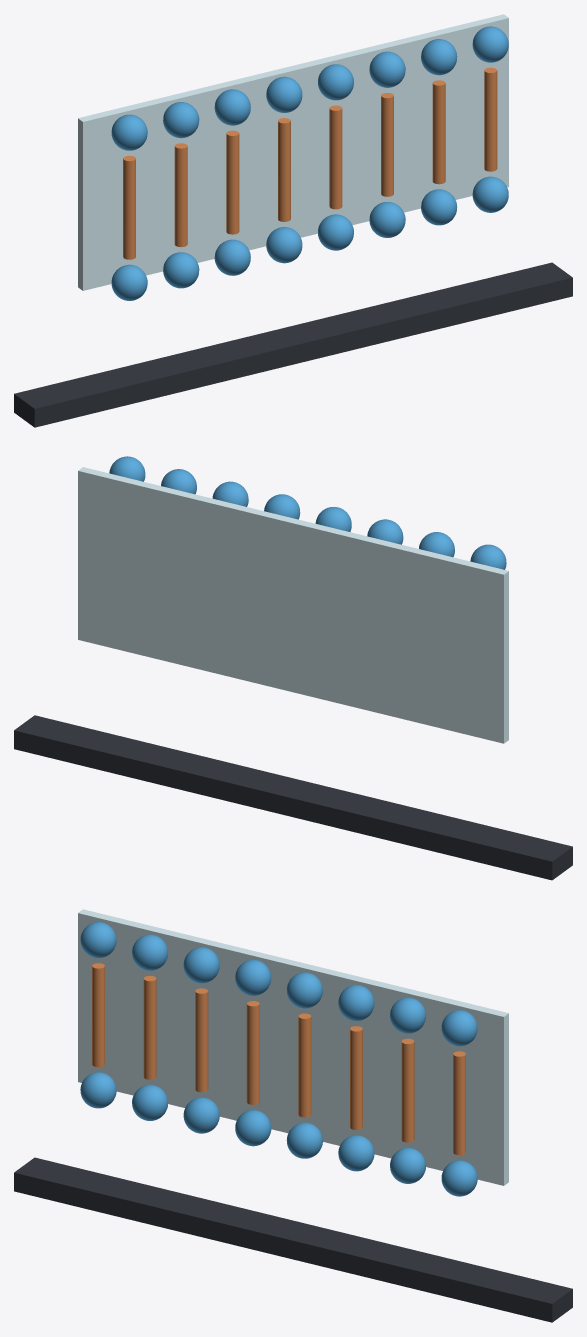
Rendered from chem-biolink-lipid-membrane.glb.
3 views of the same model, one above another, from view 1: azimuth 30°, elevation 25°; view 2: azimuth 150°, elevation 25°; view 3: azimuth 330°, elevation 25° (orthographic).
Parts seen in each view (by area): view 1: selective-barrier-bilayer-plane, biochemistry-bench, tail-core-water-avoiding-2, tail-core-water-avoiding-4, tail-core-water-avoiding-6, tail-core-water-avoiding-7, tail-core-water-avoiding-1, tail-core-water-avoiding-0, tail-core-water-avoiding-3, tail-core-water-avoiding-5, head-layer-water-loving-2, head-layer-water-loving-3 (+14 smaller); view 2: selective-barrier-bilayer-plane, biochemistry-bench, head-layer-water-loving-5, head-layer-water-loving-0, head-layer-water-loving-2, head-layer-water-loving-3, head-layer-water-loving-7, head-layer-water-loving-4, head-layer-water-loving-6, head-layer-water-loving-1; view 3: selective-barrier-bilayer-plane, biochemistry-bench, tail-core-water-avoiding-2, tail-core-water-avoiding-4, tail-core-water-avoiding-6, tail-core-water-avoiding-1, tail-core-water-avoiding-3, tail-core-water-avoiding-7, tail-core-water-avoiding-0, tail-core-water-avoiding-5, head-layer-water-loving-0, head-layer-water-loving-bottom-2 (+14 smaller).
Boxes of the visible parts, <box> form: selective-barrier-bilayer-plane: <box>78,14,508,290</box>; biochemistry-bench: <box>14,262,572,427</box>; tail-core-water-avoiding-2: <box>226,130,239,234</box>; tail-core-water-avoiding-4: <box>329,105,342,209</box>; tail-core-water-avoiding-6: <box>432,80,445,184</box>; tail-core-water-avoiding-7: <box>484,67,497,171</box>; tail-core-water-avoiding-1: <box>174,143,187,247</box>; tail-core-water-avoiding-0: <box>123,155,135,259</box>; tail-core-water-avoiding-3: <box>278,118,290,221</box>; tail-core-water-avoiding-5: <box>381,93,393,196</box>; head-layer-water-loving-2: <box>214,89,250,125</box>; head-layer-water-loving-3: <box>266,76,302,112</box>; selective-barrier-bilayer-plane: <box>78,467,508,743</box>; biochemistry-bench: <box>14,715,572,880</box>; head-layer-water-loving-5: <box>212,481,248,506</box>; head-layer-water-loving-0: <box>470,544,506,569</box>; head-layer-water-loving-2: <box>367,519,403,544</box>; head-layer-water-loving-3: <box>315,507,351,531</box>; head-layer-water-loving-7: <box>109,456,145,481</box>; head-layer-water-loving-4: <box>264,494,300,519</box>; head-layer-water-loving-6: <box>161,469,196,494</box>; head-layer-water-loving-1: <box>419,532,454,557</box>; selective-barrier-bilayer-plane: <box>78,909,508,1185</box>; biochemistry-bench: <box>14,1157,572,1322</box>; tail-core-water-avoiding-2: <box>195,988,208,1092</box>; tail-core-water-avoiding-4: <box>298,1013,311,1117</box>; tail-core-water-avoiding-6: <box>401,1038,414,1142</box>; tail-core-water-avoiding-1: <box>143,976,156,1079</box>; tail-core-water-avoiding-3: <box>246,1001,259,1104</box>; tail-core-water-avoiding-7: <box>453,1051,465,1155</box>; tail-core-water-avoiding-0: <box>92,963,104,1067</box>; tail-core-water-avoiding-5: <box>350,1026,362,1129</box>; head-layer-water-loving-0: <box>80,922,116,958</box>; head-layer-water-loving-bottom-2: <box>183,1097,219,1133</box>.
Size of what is drawn, in the model's own units: 2.4 by 1.25 by 0.27.
